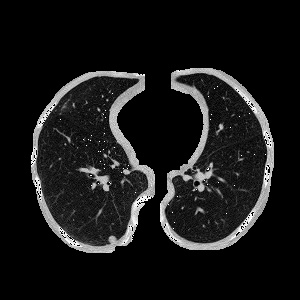PN: (108, 235, 116, 243)
